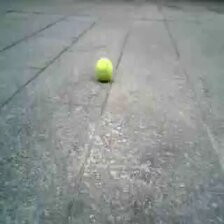tennis: (96, 57, 113, 79)
